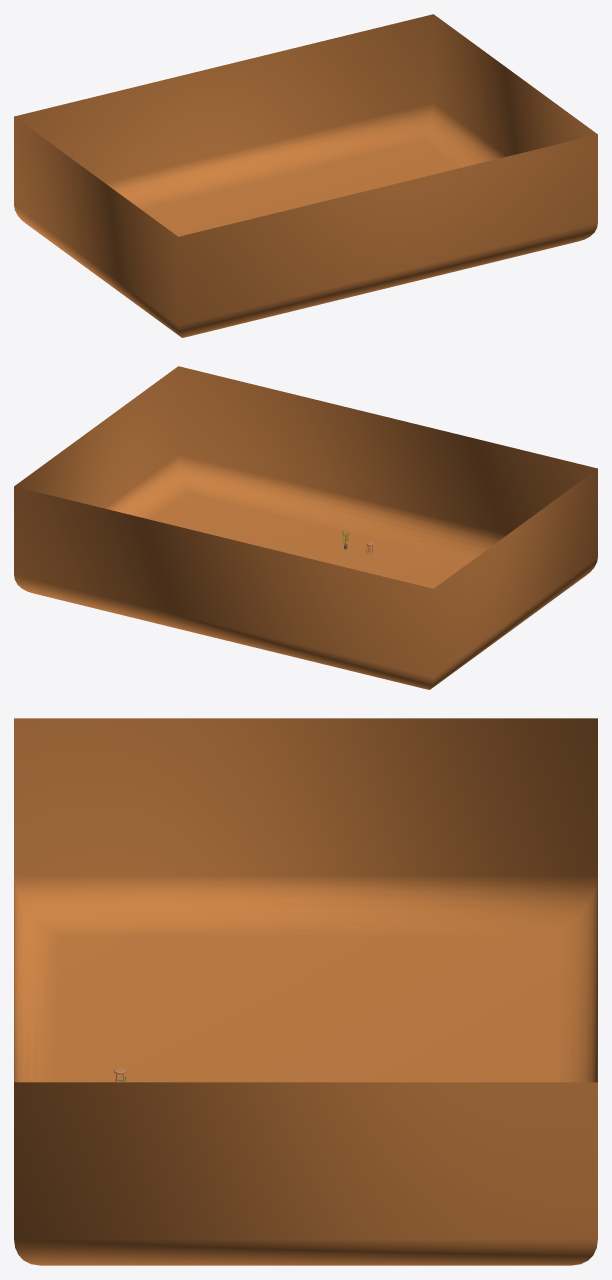
File: Backdrop.glb
3 renders of one model, top to bottom at view 1: azimuth 30°, elevation 25°; view 2: azimuth 150°, elevation 25°; view 3: azimuth 270°, elevation 25°, orthographic. The views are drawn at different scales.
Visible parts, largest first — view 1: Plane.002; view 2: Plane.002; view 3: Plane.002.
Part boxes in pixels (x1,y1,x2,y2): Plane.002: [14, 14, 597, 337]; Plane.002: [14, 366, 597, 689]; Plane.002: [14, 718, 597, 1265].
Size of the model in its own units: 31.88 by 8.11 by 21.63.
3 materials, 2 textured.
